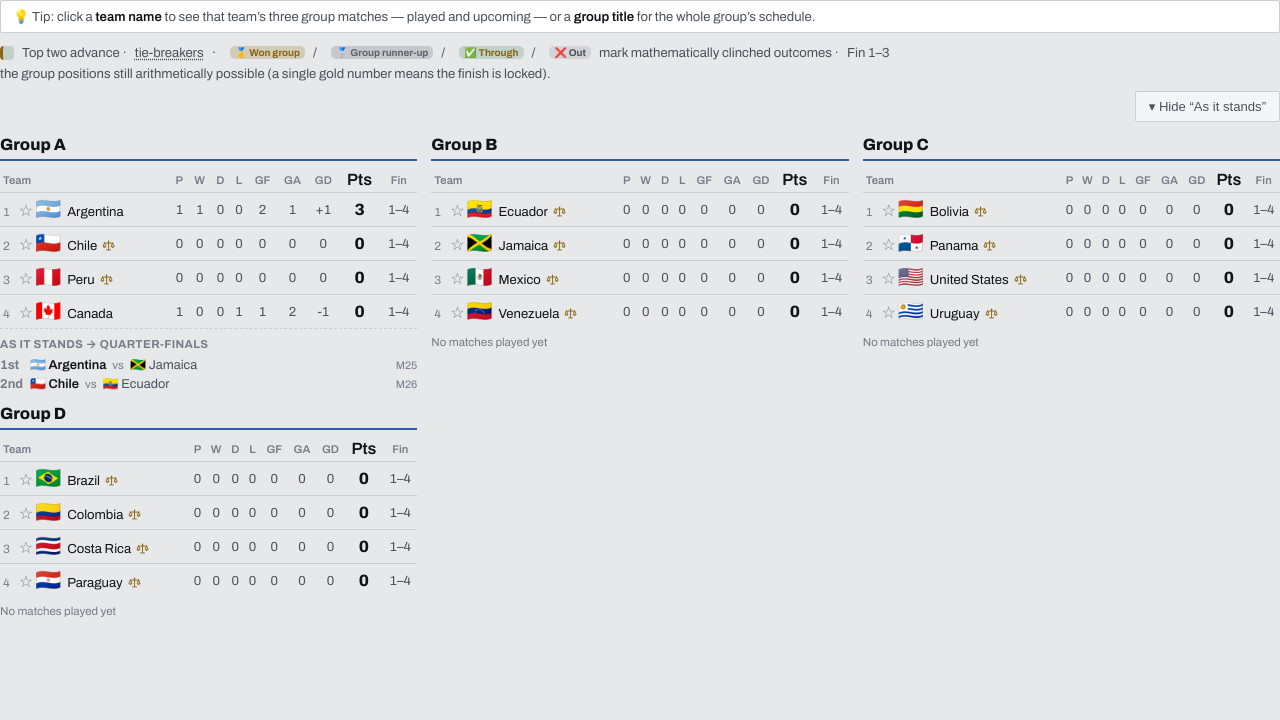
Group games pop-up › shows only the selected team’s three matches when a team is clicked
The width and height of the screenshot is (1280, 720).
Click the button "Argentina".
click(95, 212)  # box [67,204,124,220]
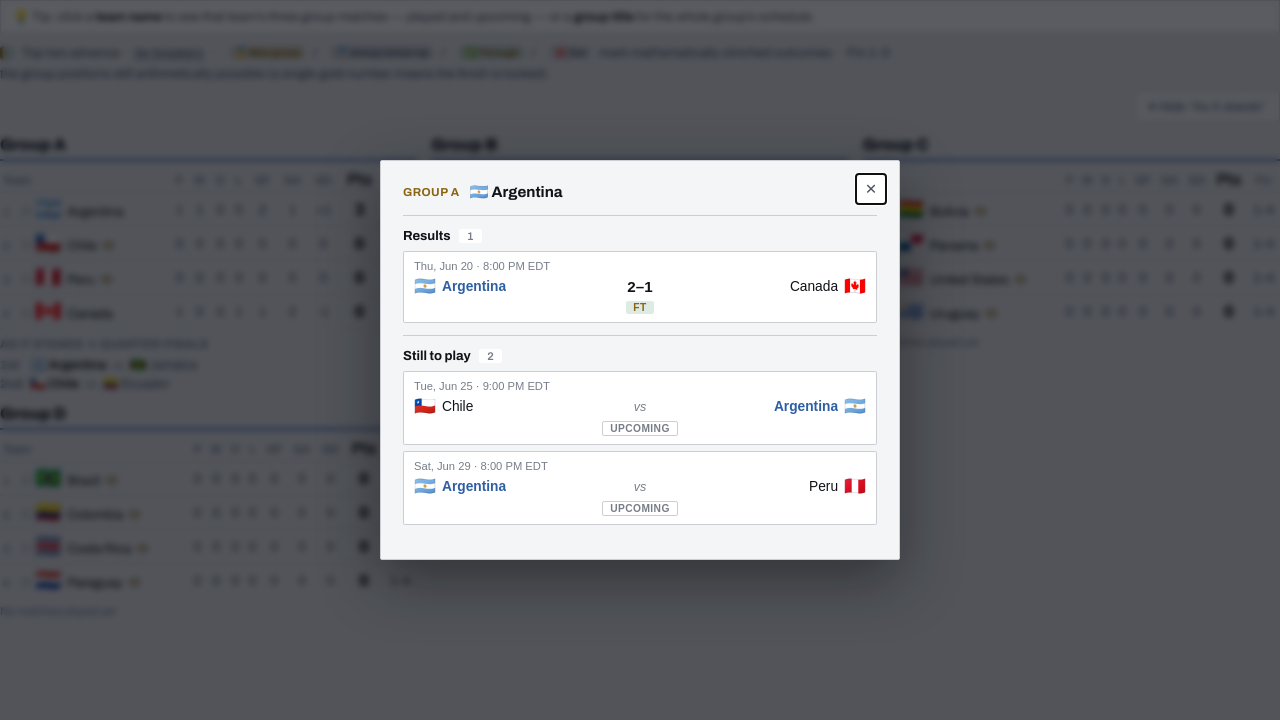
expect the text with class "gg-head-team" shows "Argentina": met, box [491,184,563,200]
expect the number of buttons with class "gg-fixture" is 3: met, box [403,251,877,323]; [403,371,877,445]; [403,451,877,525]
expect the heading "Results 1" is shown: met, box [403,228,482,243]
